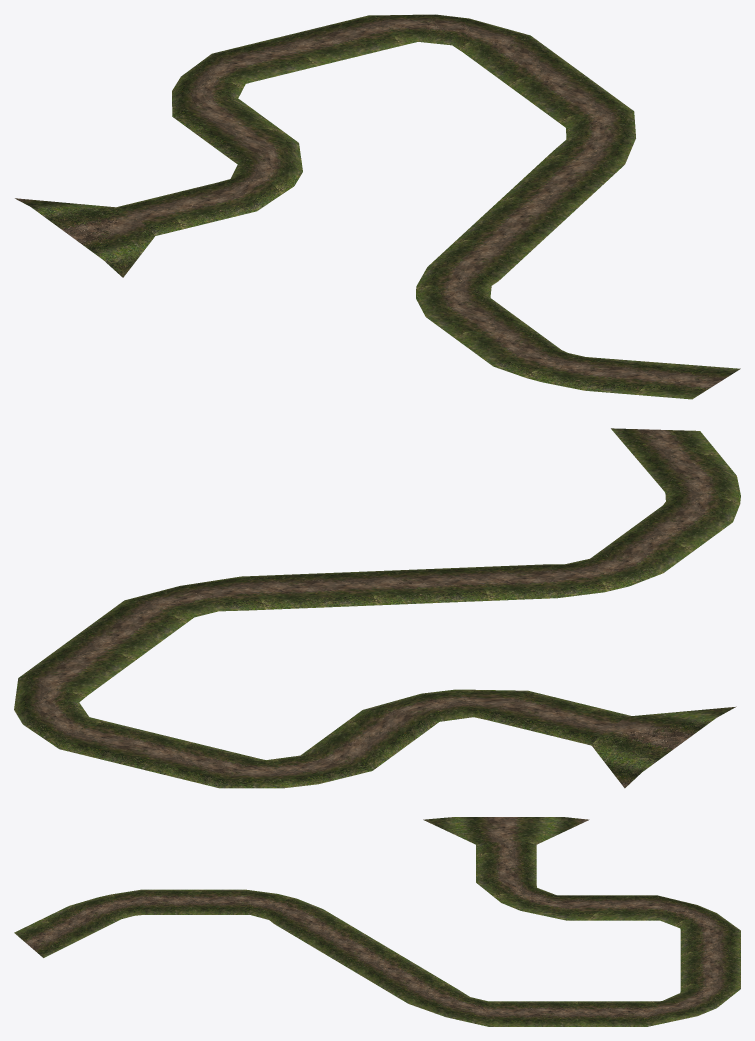
Rendered from Path01.fbx.
The picture shows the model from 3 angles, top to bottom: view 1: azimuth 30°, elevation 25°; view 2: azimuth 150°, elevation 25°; view 3: azimuth 270°, elevation 25°; orthographic projection. The views are drawn at different scales.
Parts seen in each view (by area): view 1: Plane; view 2: Plane; view 3: Plane.
Part boxes in pixels (x1,y1,x2,y2): Plane: (15, 14, 740, 399); Plane: (14, 428, 740, 788); Plane: (14, 817, 740, 1026).
Bounding box in the file's own units: 9.83 × 0.0586 × 14.58.
Materials: 1 (1 with a texture image).
